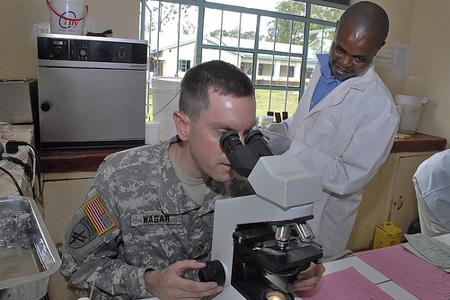person: (61, 60, 326, 298)
